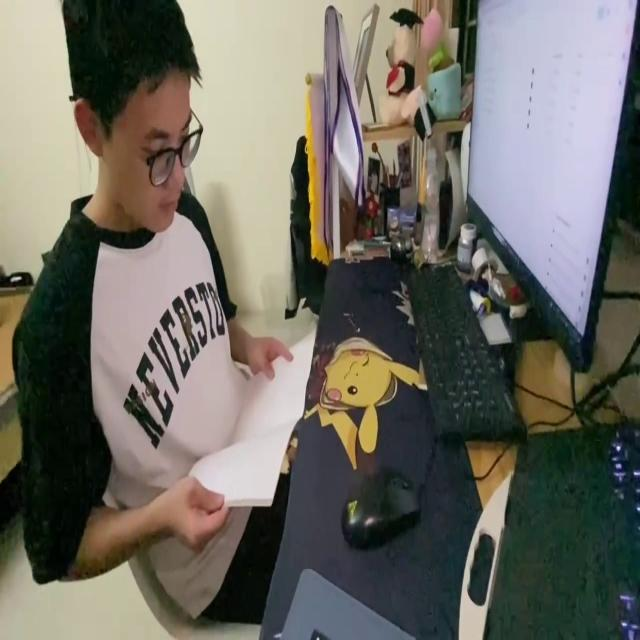book: (185, 322, 319, 512)
laptop: (464, 0, 640, 379)
student: (11, 0, 293, 630)
